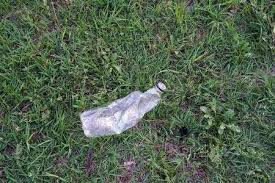plastic_bottle: (80, 82, 166, 139)
